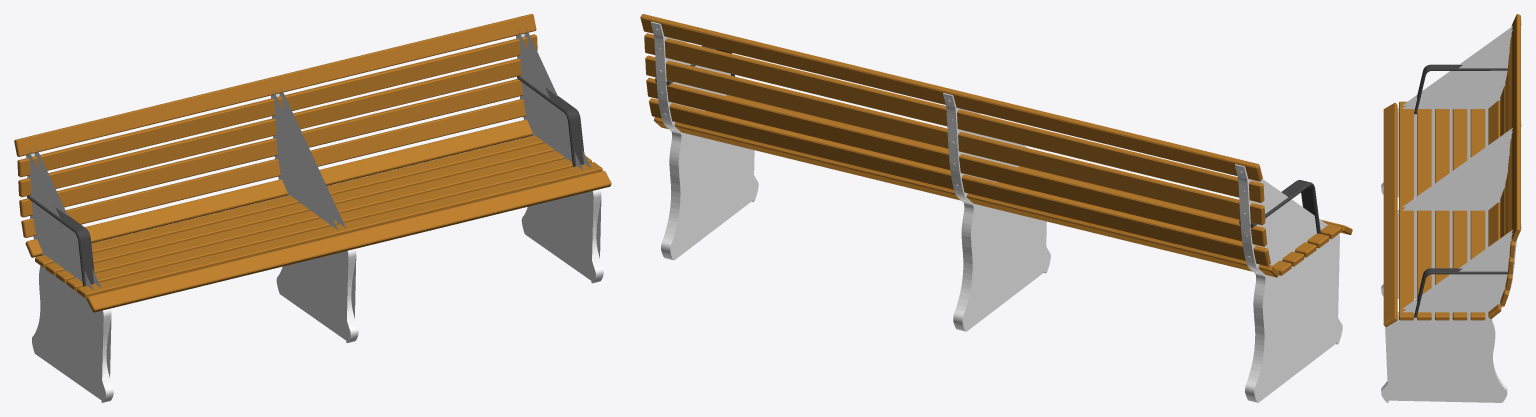
Rendered from Park_Bench.obj.
3 renders of one model, left to right at view 1: azimuth 30°, elevation 25°; view 2: azimuth 150°, elevation 25°; view 3: azimuth 270°, elevation 25°, orthographic. The views are drawn at different scales.
Visible parts, largest first — view 1: Back_Slat_6, Seat_Slat_1, Back_Slat_5, Back_Slat_4, Back_Slat_3, Back_Slat_2, Back_Slat_1, Seat_Slat_2, Cap_1_1, Seat_Slat_3, Seat_Slat_4, Seat_Slat_5 (+14 smaller); view 2: Back_Slat_4, Back_Slat_5, Back_Slat_3, Back_Slat_2, Back_Slat_6, Cap_1_1, Cap_1, Cap_1_2, Back_Slat_1, Cap_1_7, Leg_R, Leg_C (+7 smaller); view 3: Cap_2_2, Cap_2_6, Cap_2_5, Cap_2_7, Seat_Slat_1, Seat_Slat_2, Seat_Slat_3, Back_Slat_6, Seat_Slat_4, Seat_Slat_5, Seat_Slat_6, Cap_2_1 (+13 smaller).
Part boxes in pixels (left/top/right/bottom): Back_Slat_6: left=14, top=14, right=536, bottom=156; Seat_Slat_1: left=86, top=171, right=611, bottom=312; Back_Slat_5: left=17, top=34, right=537, bottom=177; Back_Slat_4: left=18, top=58, right=521, bottom=197; Back_Slat_3: left=19, top=79, right=522, bottom=217; Back_Slat_2: left=21, top=99, right=525, bottom=237; Back_Slat_1: left=25, top=119, right=532, bottom=257; Seat_Slat_2: left=77, top=162, right=602, bottom=298; Cap_1_1: left=32, top=265, right=105, bottom=402; Seat_Slat_3: left=66, top=156, right=591, bottom=290; Seat_Slat_4: left=56, top=151, right=564, bottom=282; Seat_Slat_5: left=45, top=143, right=553, bottom=275; Back_Slat_4: left=645, top=55, right=1265, bottom=225; Back_Slat_5: left=644, top=33, right=1264, bottom=202; Back_Slat_3: left=646, top=77, right=1267, bottom=246; Back_Slat_2: left=649, top=98, right=1270, bottom=266; Back_Slat_6: left=640, top=14, right=1262, bottom=181; Cap_1_1: left=1254, top=234, right=1342, bottom=402; Cap_1: left=962, top=202, right=1050, bottom=331; Cap_1_2: left=670, top=132, right=758, bottom=260; Back_Slat_1: left=654, top=117, right=1279, bottom=277; Cap_1_7: left=1244, top=166, right=1327, bottom=275; Leg_R: left=661, top=129, right=753, bottom=260; Leg_C: left=953, top=201, right=1045, bottom=331; Cap_2_2: left=1381, top=316, right=1507, bottom=402; Cap_2_6: left=1397, top=125, right=1521, bottom=219; Cap_2_5: left=1397, top=227, right=1521, bottom=317; Cap_2_7: left=1397, top=23, right=1521, bottom=114; Seat_Slat_1: left=1383, top=102, right=1397, bottom=326; Seat_Slat_2: left=1399, top=101, right=1413, bottom=320; Seat_Slat_3: left=1417, top=109, right=1431, bottom=320; Back_Slat_6: left=1511, top=14, right=1520, bottom=241; Seat_Slat_4: left=1435, top=109, right=1449, bottom=320; Seat_Slat_5: left=1452, top=109, right=1467, bottom=320; Seat_Slat_6: left=1470, top=109, right=1485, bottom=320; Cap_2_1: left=1381, top=113, right=1488, bottom=197.
Size of the model in its own units: 356 by 138 by 98.28.
